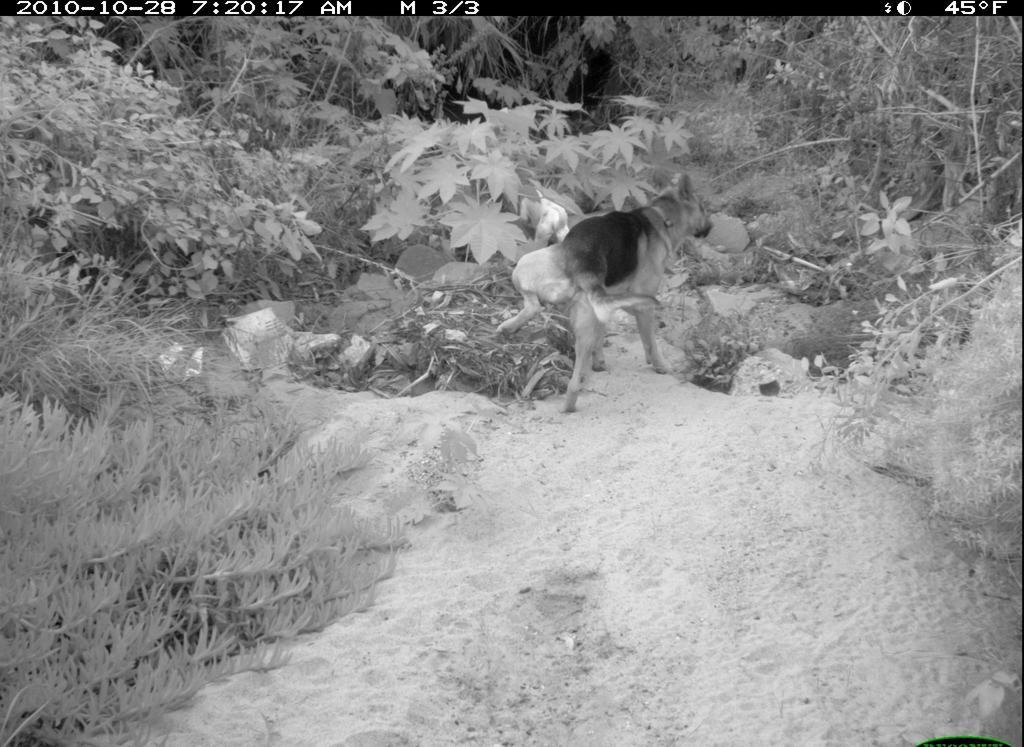dog: (491, 164, 719, 422)
